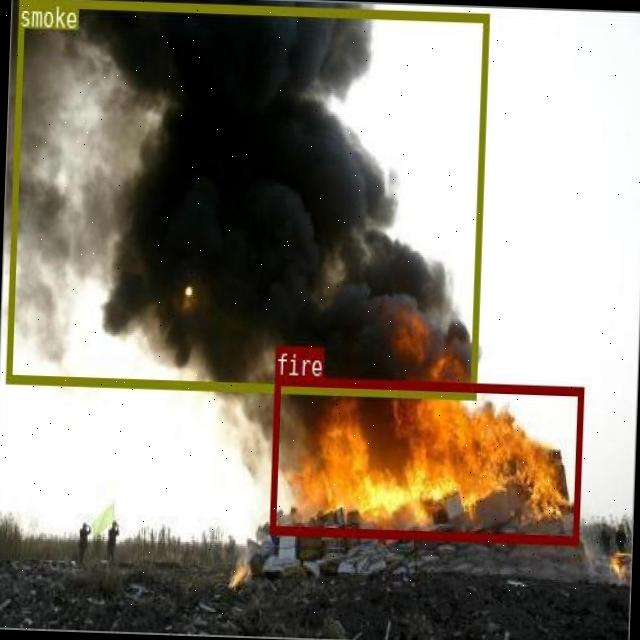fire: (270, 374, 582, 544)
smoke: (6, 0, 488, 398)
